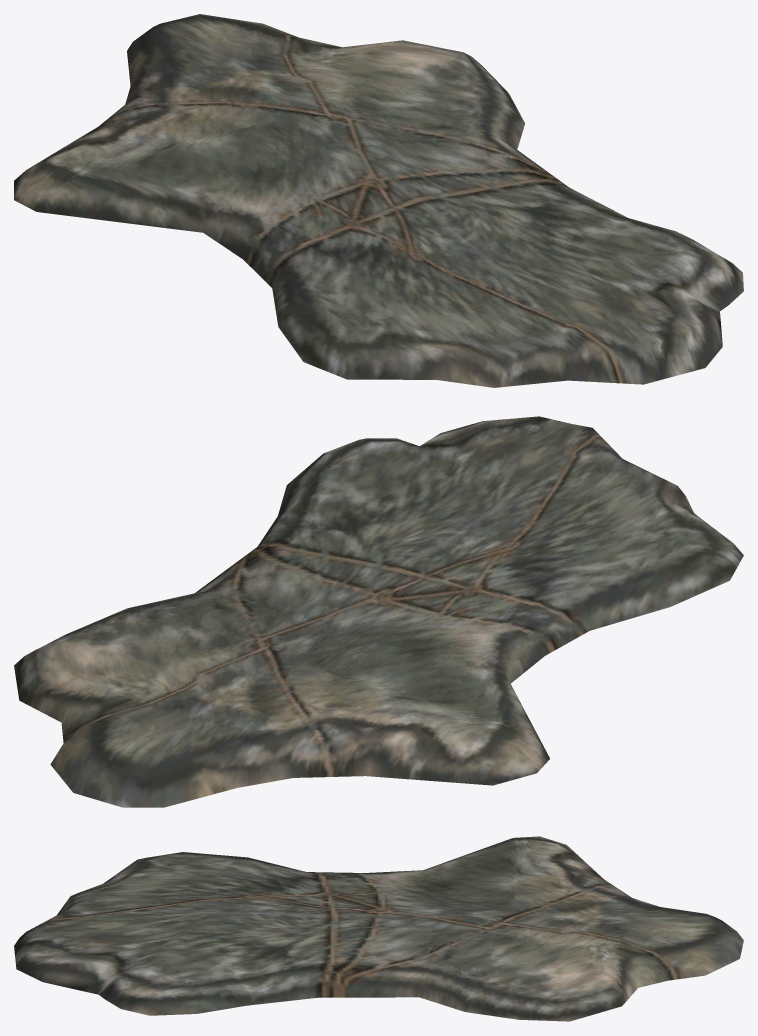
Rendered from con_gen_organic_hide_wooly_l1.fbx.
3 renders of one model, top to bottom at view 1: azimuth 30°, elevation 25°; view 2: azimuth 150°, elevation 25°; view 3: azimuth 270°, elevation 25°, orthographic. The views are drawn at different scales.
Parts seen in each view (by area): view 1: mesh_node; view 2: mesh_node; view 3: mesh_node.
Part boxes in pixels (x1,y1,x2,y2): mesh_node: [14, 14, 743, 387]; mesh_node: [14, 416, 743, 807]; mesh_node: [14, 836, 743, 1021].
Bounding box in the file's own units: 1.16 × 0.0806 × 1.98.
